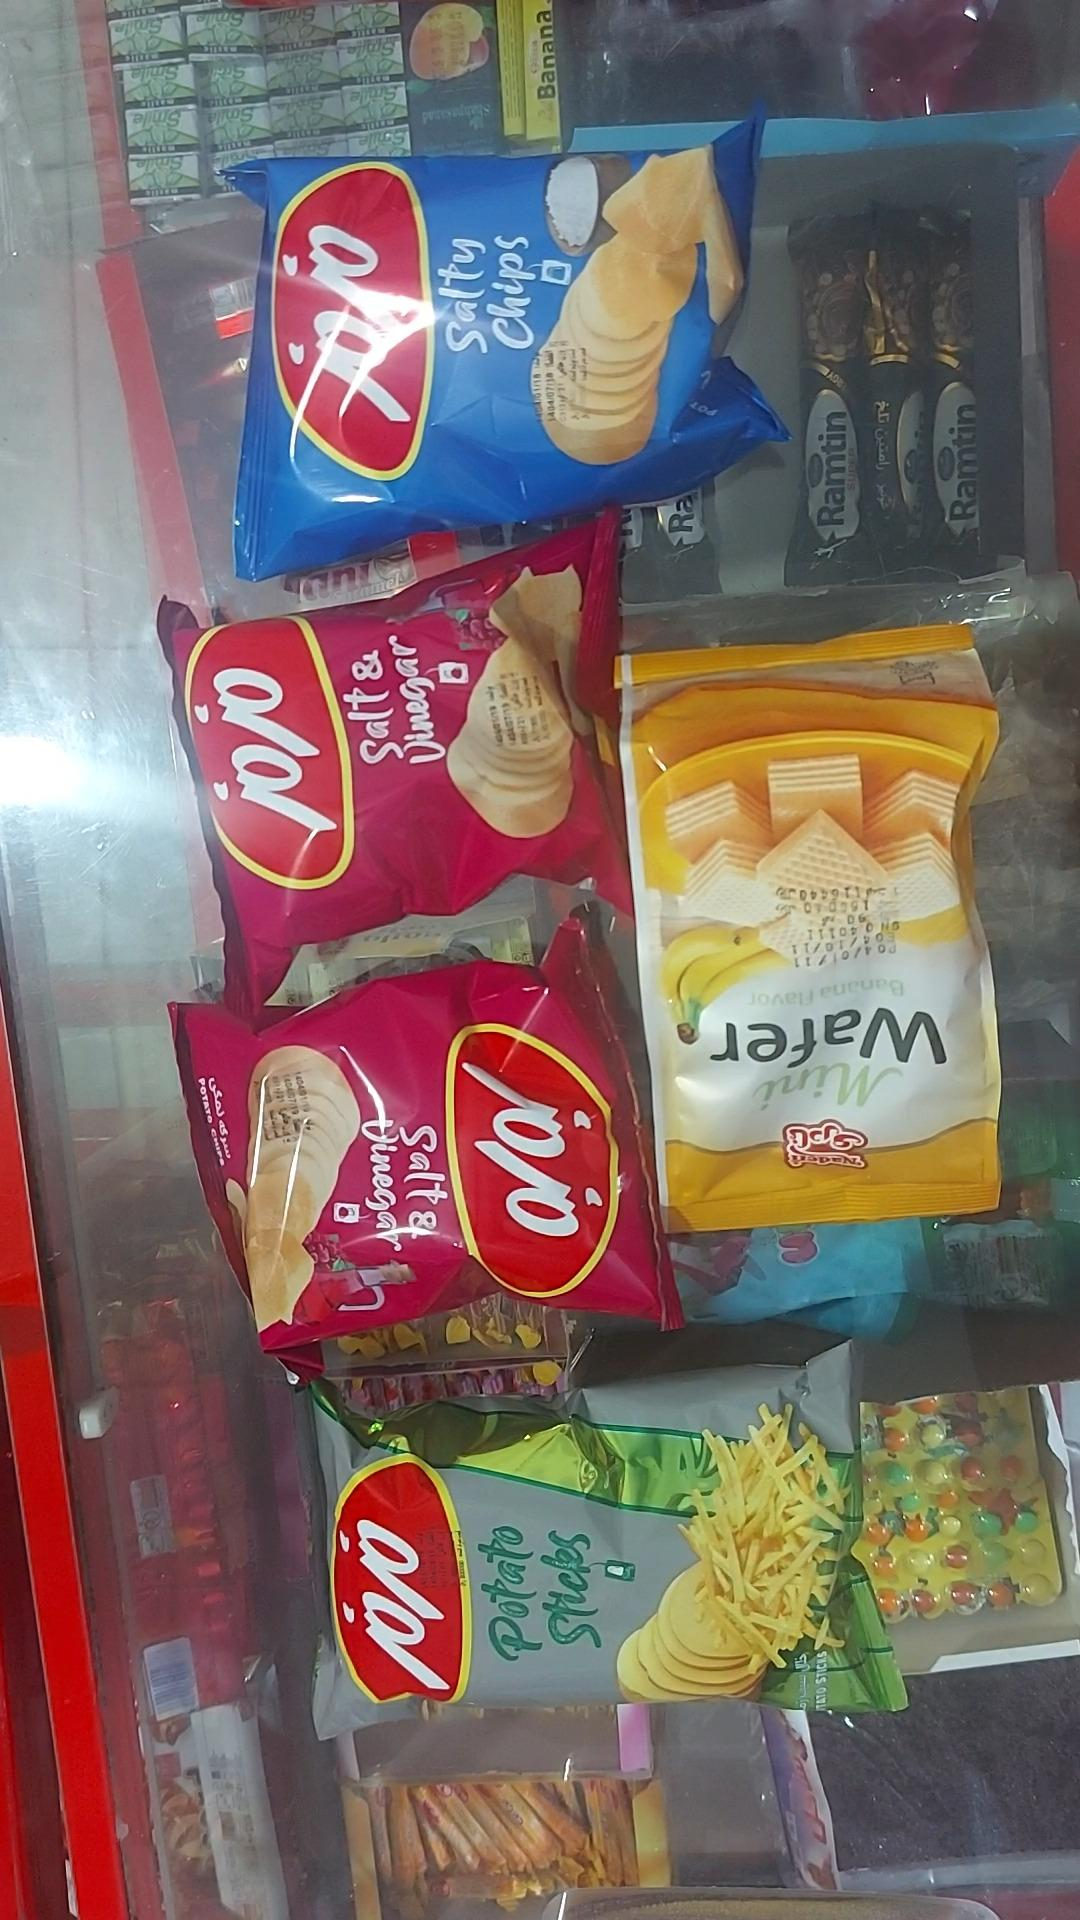Maz Maz potato sticks: (313, 1335, 910, 1739)
Maz Maz salty chips: (236, 108, 785, 578)
Maz Maz vinegar chips: (150, 502, 630, 1006), (177, 911, 686, 1379)
Naderi mini wafer: (612, 628, 1004, 1230)
